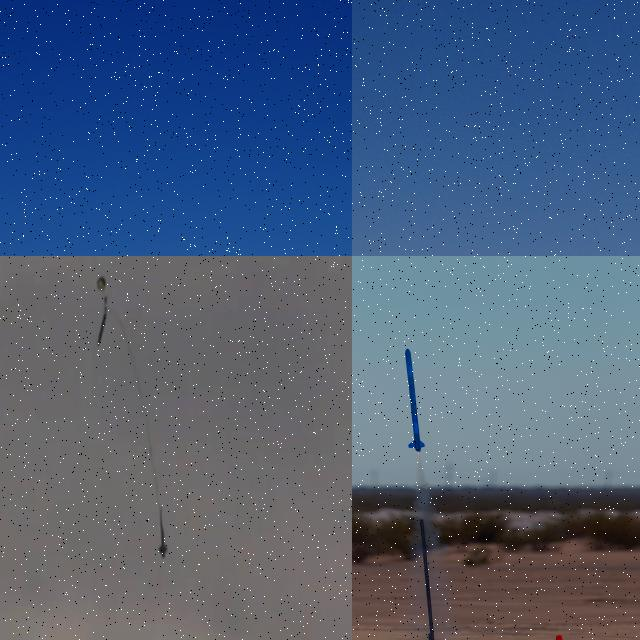Rocket: (404, 348, 427, 453), (159, 507, 167, 559)
